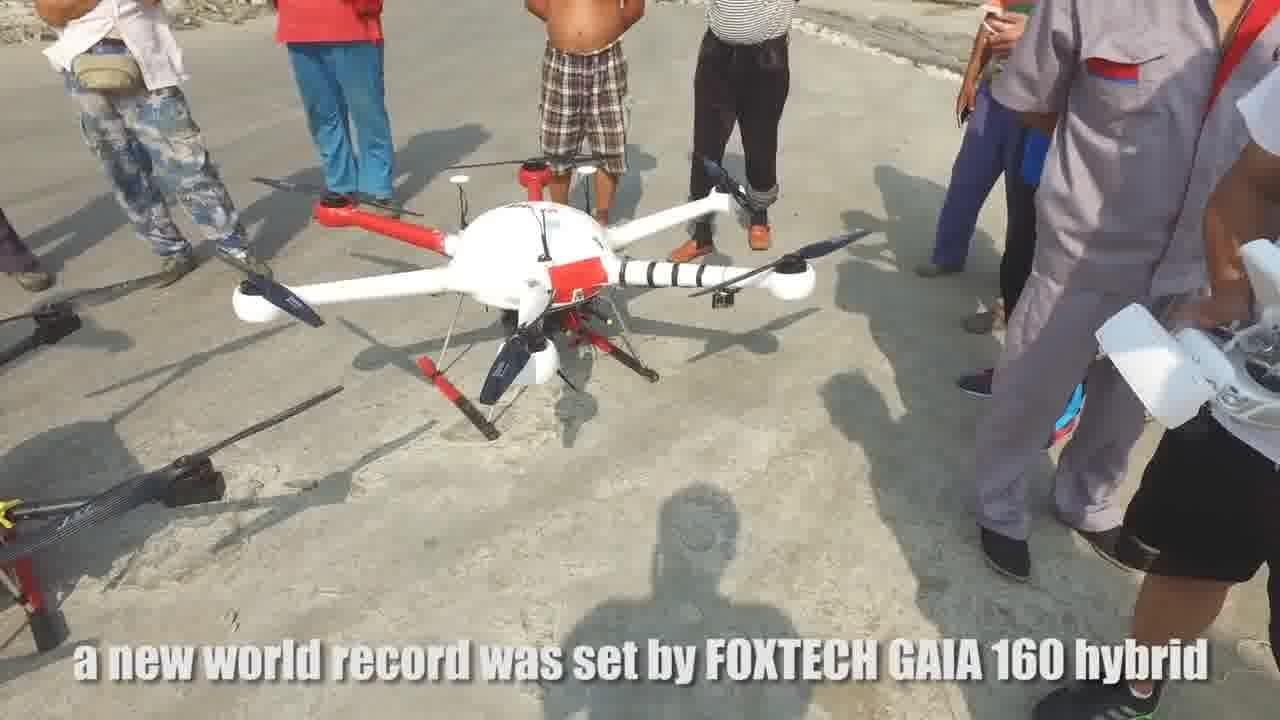drone: (221, 146, 840, 428)
